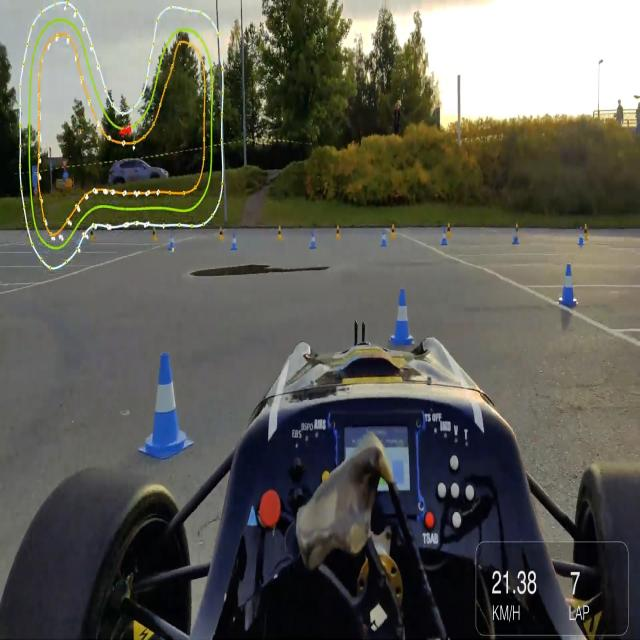blue_cone: (141, 353, 193, 460), (387, 288, 414, 350), (559, 267, 577, 306), (229, 232, 238, 254), (439, 228, 448, 247), (167, 233, 176, 252), (511, 228, 520, 246), (380, 230, 388, 250), (578, 228, 584, 248), (310, 233, 316, 251)
yellow_cone: (276, 225, 284, 242), (151, 225, 158, 242), (218, 225, 225, 242), (390, 223, 397, 240), (515, 222, 521, 239), (446, 223, 452, 238), (336, 226, 342, 238), (584, 223, 588, 241), (90, 228, 94, 243)
